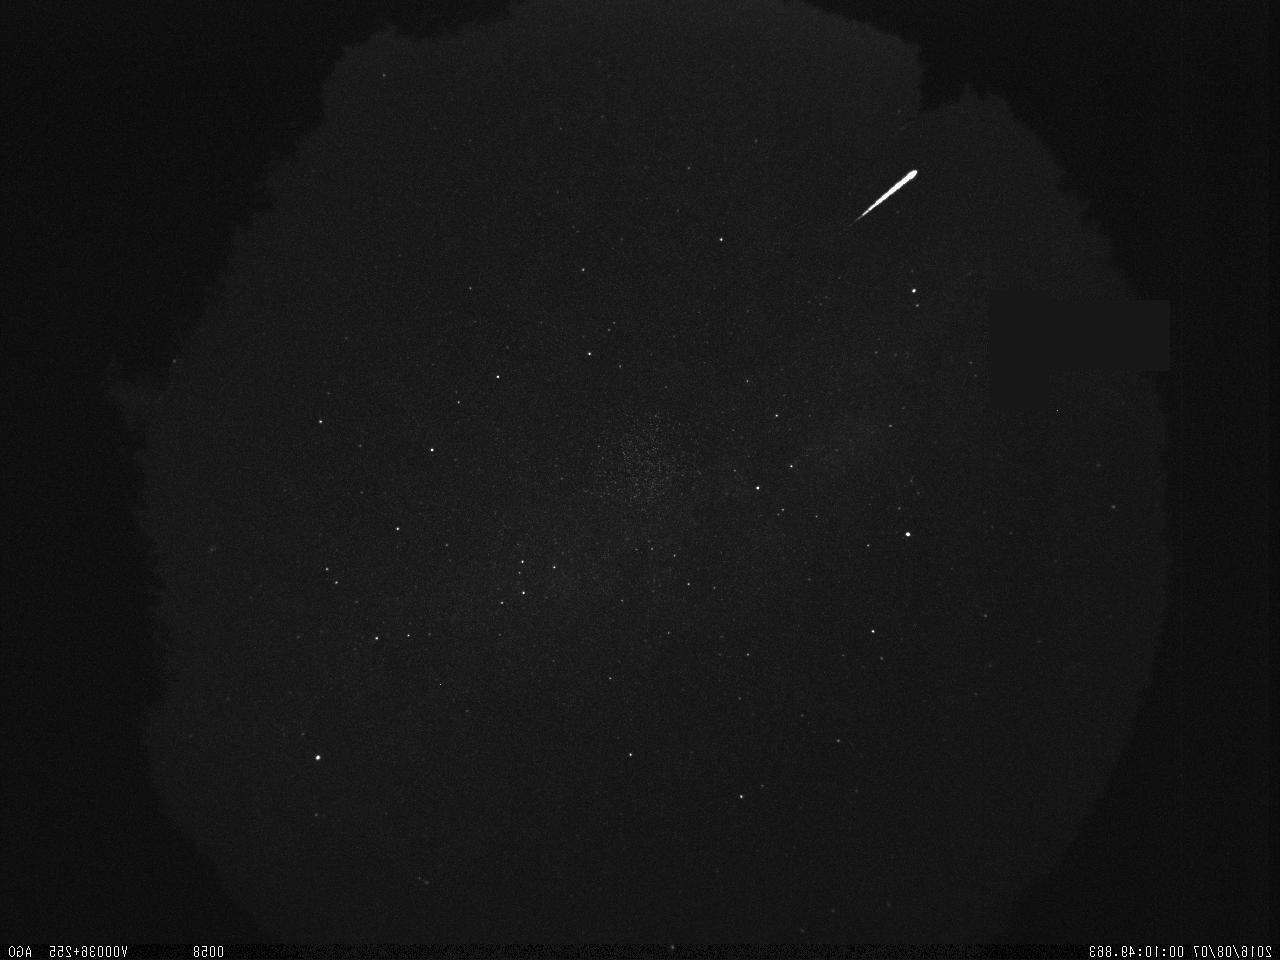meteor: (827, 156, 948, 239)
